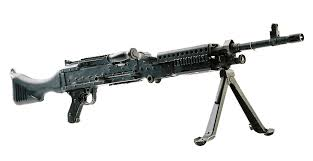gun: (6, 20, 305, 142)
